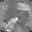people: (8, 17, 19, 30)
